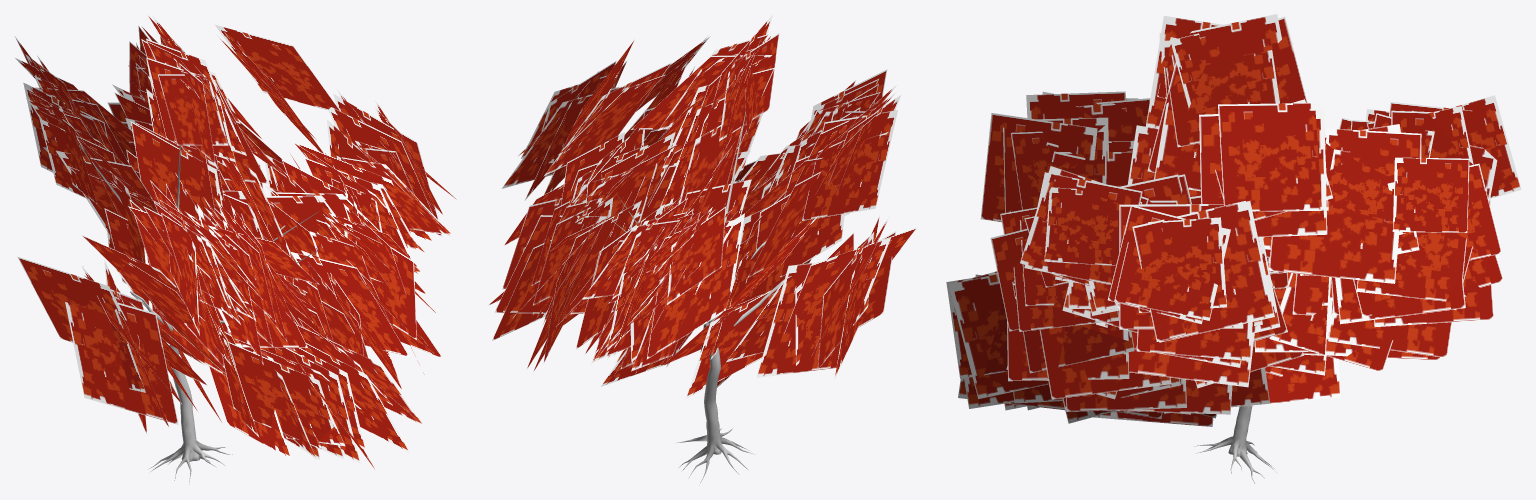
The model's file is New SpeedTree.fbx.
The picture shows the model from 3 angles, left to right: view 1: azimuth 30°, elevation 25°; view 2: azimuth 150°, elevation 25°; view 3: azimuth 270°, elevation 25°; orthographic projection. The views are drawn at different scales.
Parts seen in each view (by area): view 1: New_SpeedTree; view 2: New_SpeedTree; view 3: New_SpeedTree.
Boxes of the visible parts, x1,y1,x2,y2 form: New_SpeedTree: [15, 14, 456, 484]; New_SpeedTree: [488, 15, 917, 482]; New_SpeedTree: [946, 14, 1521, 483].
Size of the model in its own units: 47.67 by 62.55 by 53.93.
